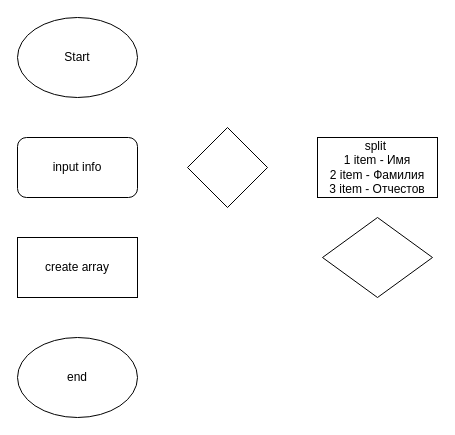
The diagram is 455 pixels wide and 435 high, and some of its shapes have lost their labels. Here are the shapes that lost their labels. From the top down, the centre of each, then its label:
At point 227,167: "if ФИО is together".
At point 377,257: "if > 3 - прочее".
